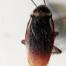cockroach: (24, 4, 56, 66)
